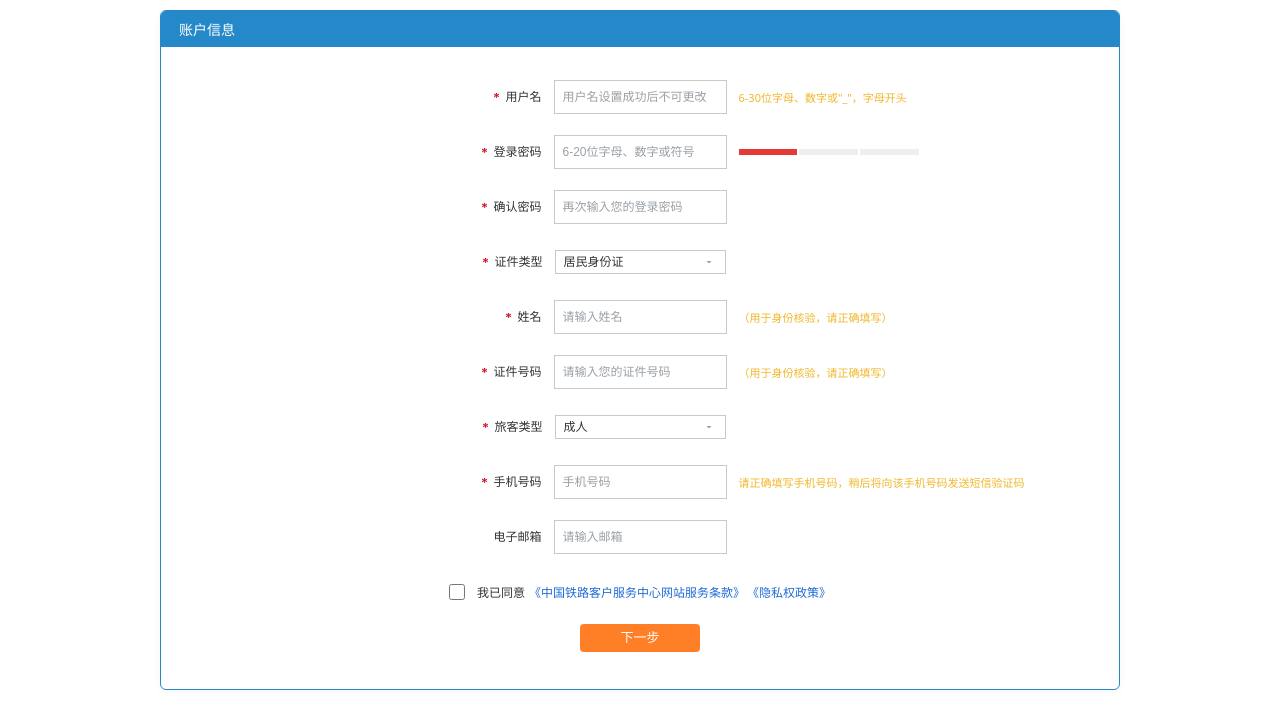
Test case: UI-RegisterForm Scenarios › Given user enters a username with less than 6 characters When the field loses focus Then it shows a length error message
The width and height of the screenshot is (1280, 720).
Type "user" into the field labelled "用户名" at (640, 96), box [554,80,726,114]
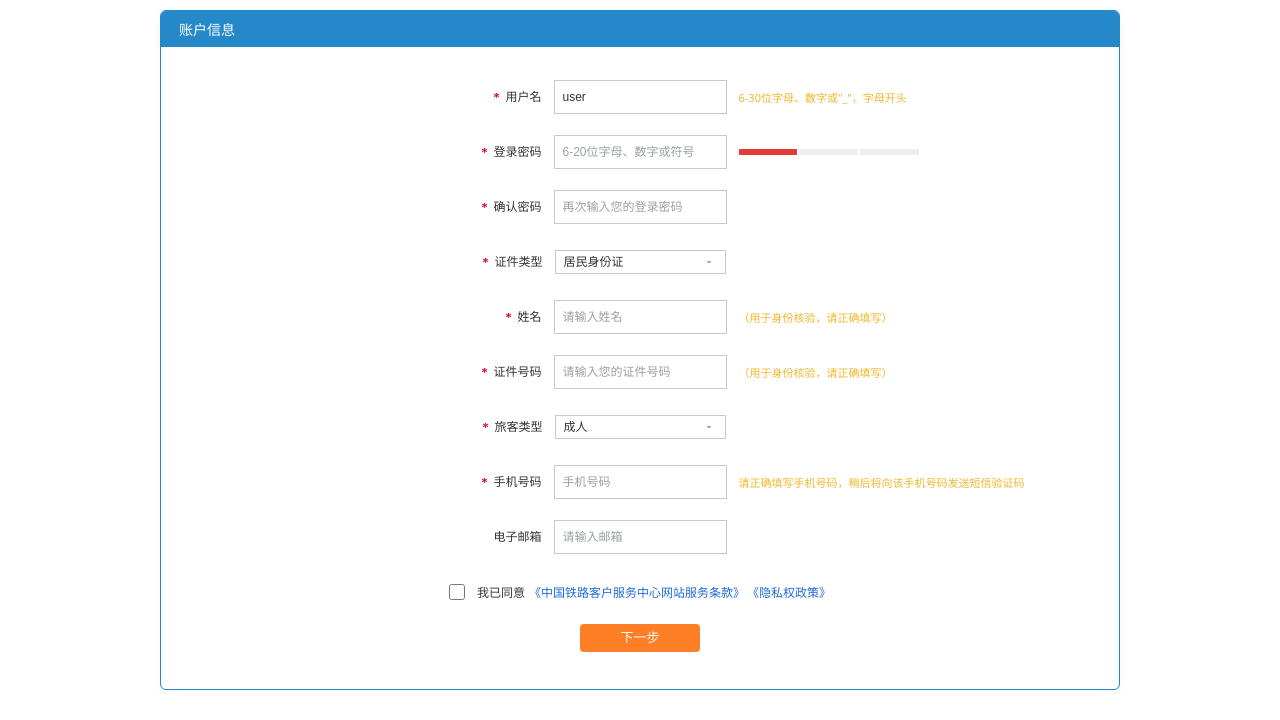
Leave the field labelled "用户名", box [554,80,726,114]
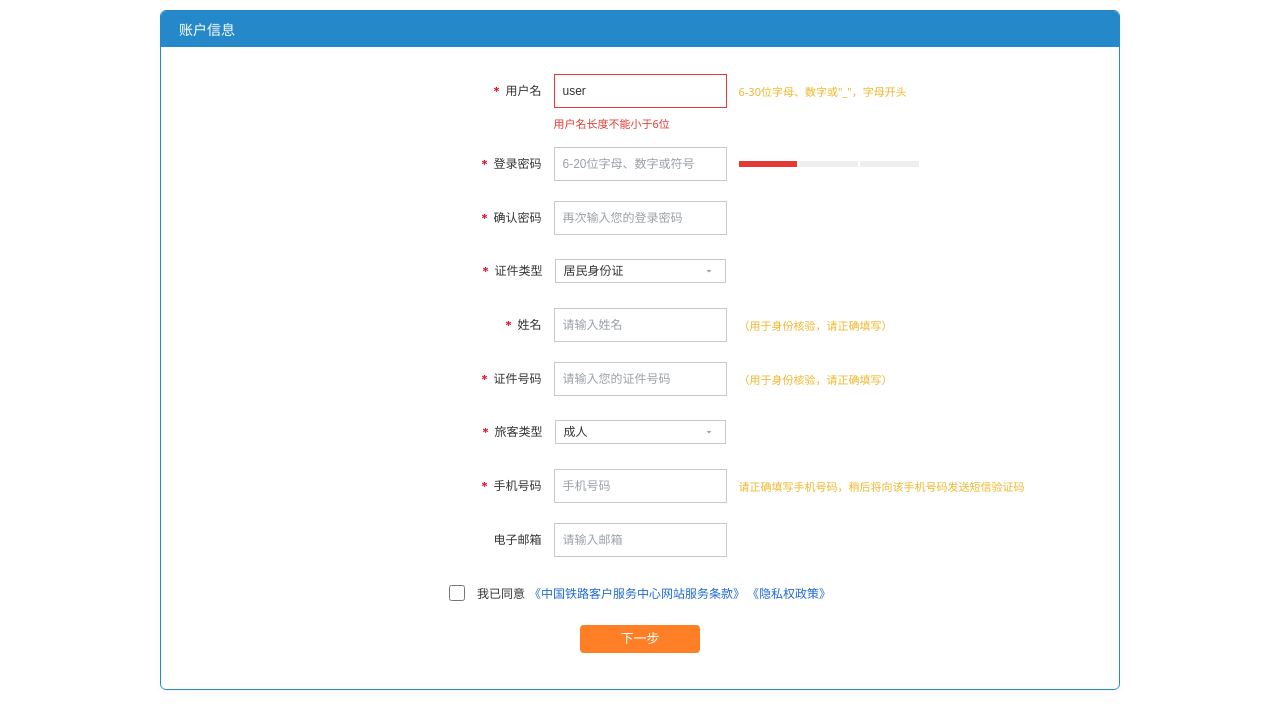
expect the text "用户名长度不能小于6位" is shown: met, box [554,116,670,131]
